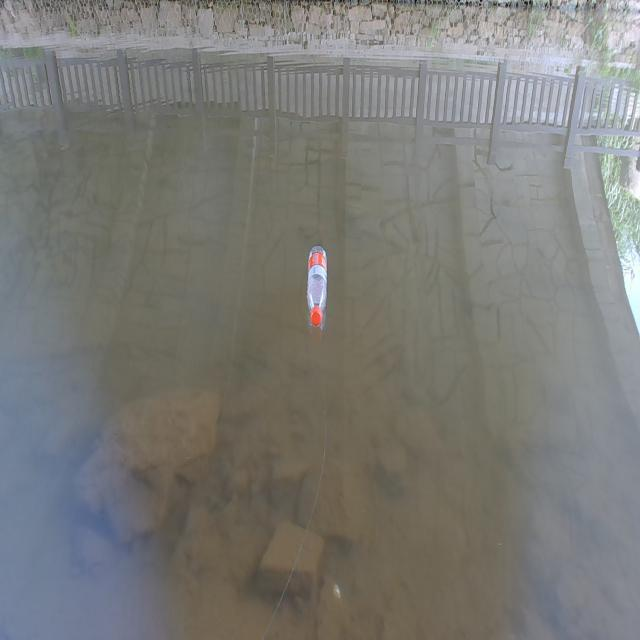bottle: (294, 228, 342, 332)
